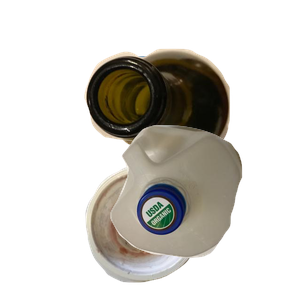glass: (82, 46, 300, 199)
metal: (84, 53, 279, 202)
plastic: (108, 123, 300, 300)
trash: (83, 163, 276, 300)
